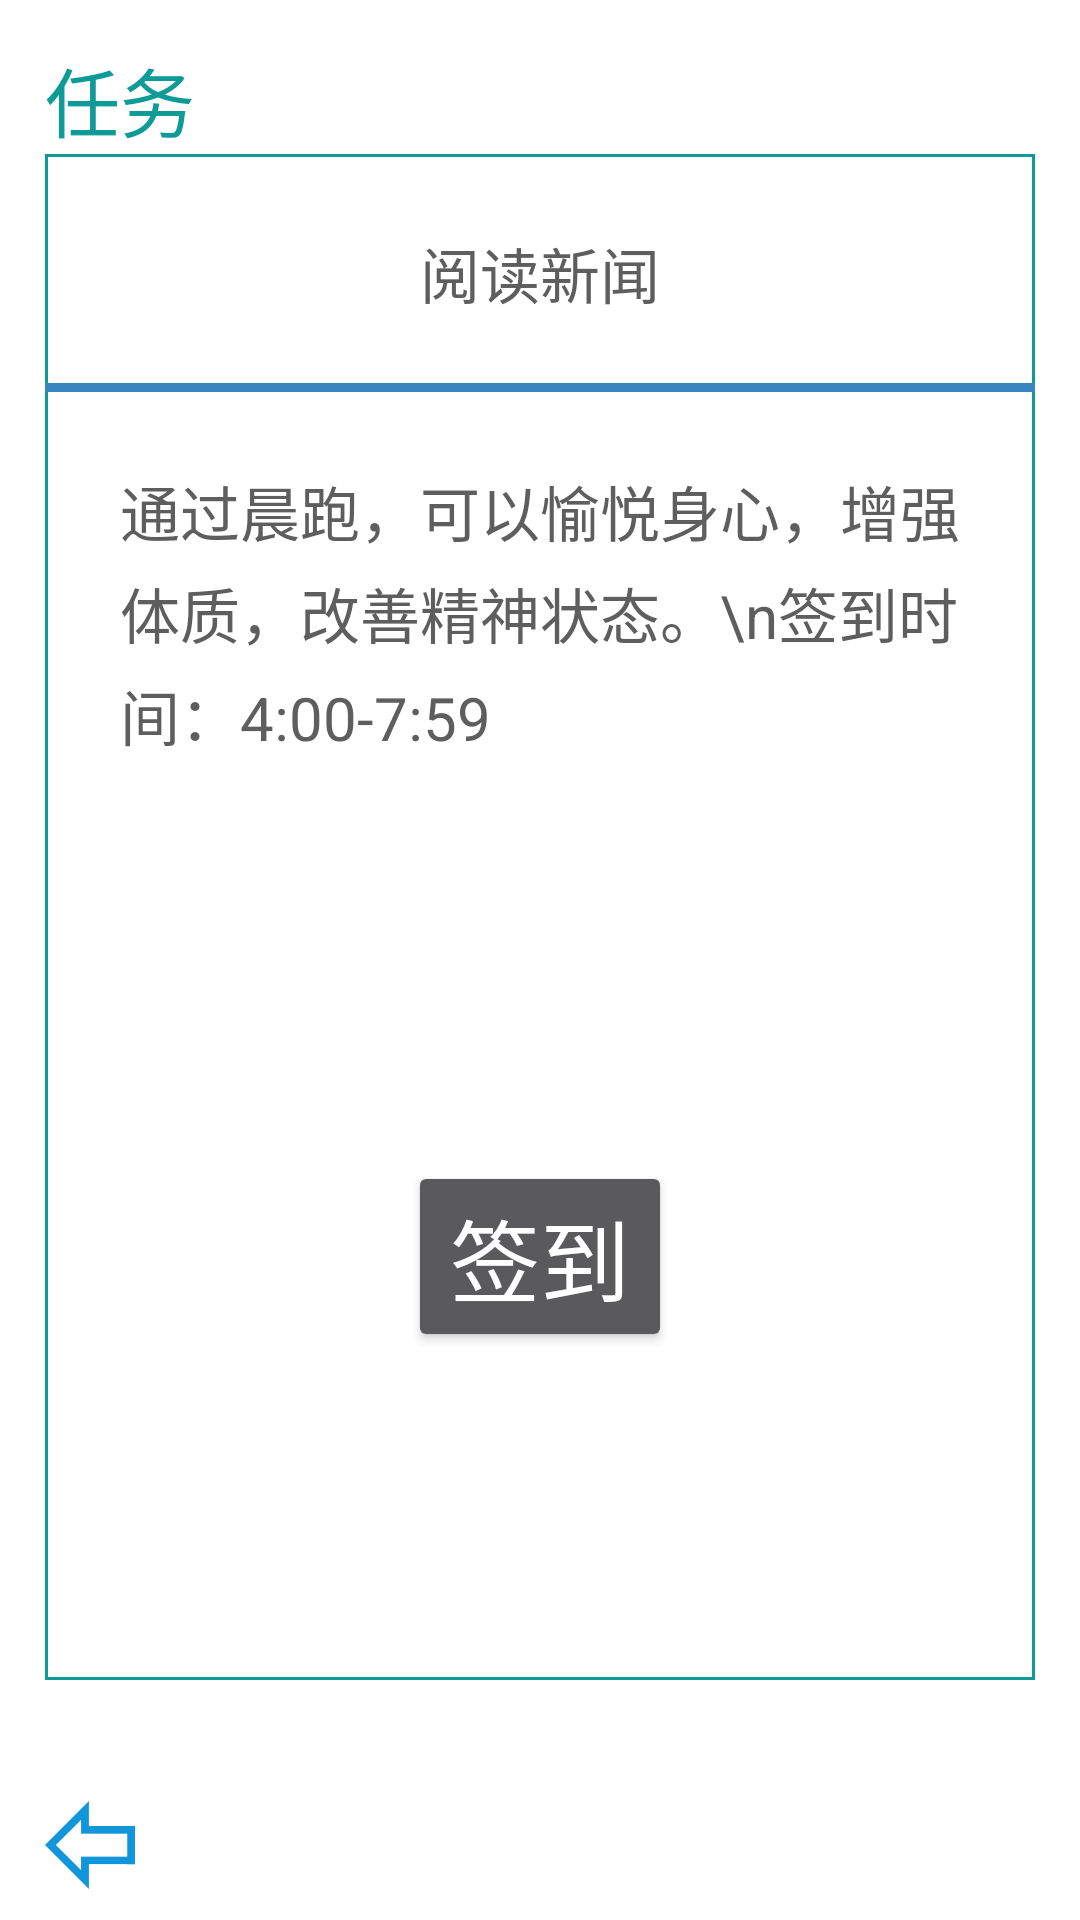

Point at icon controls on the screen. Image size 1080 x 1920, points as [x,y].
back: [90,1845]
